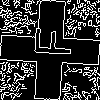F: (25, 25, 72, 59)
